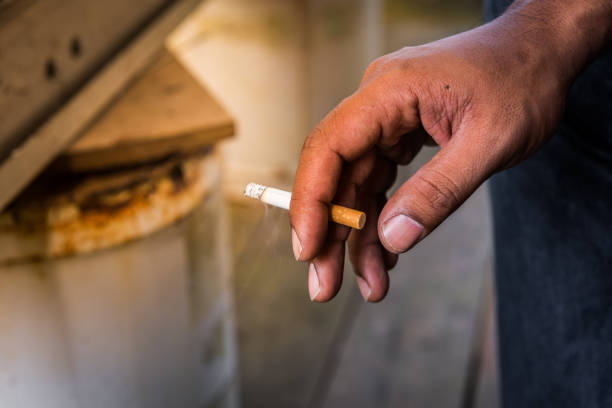cigarette: (241, 179, 364, 232)
